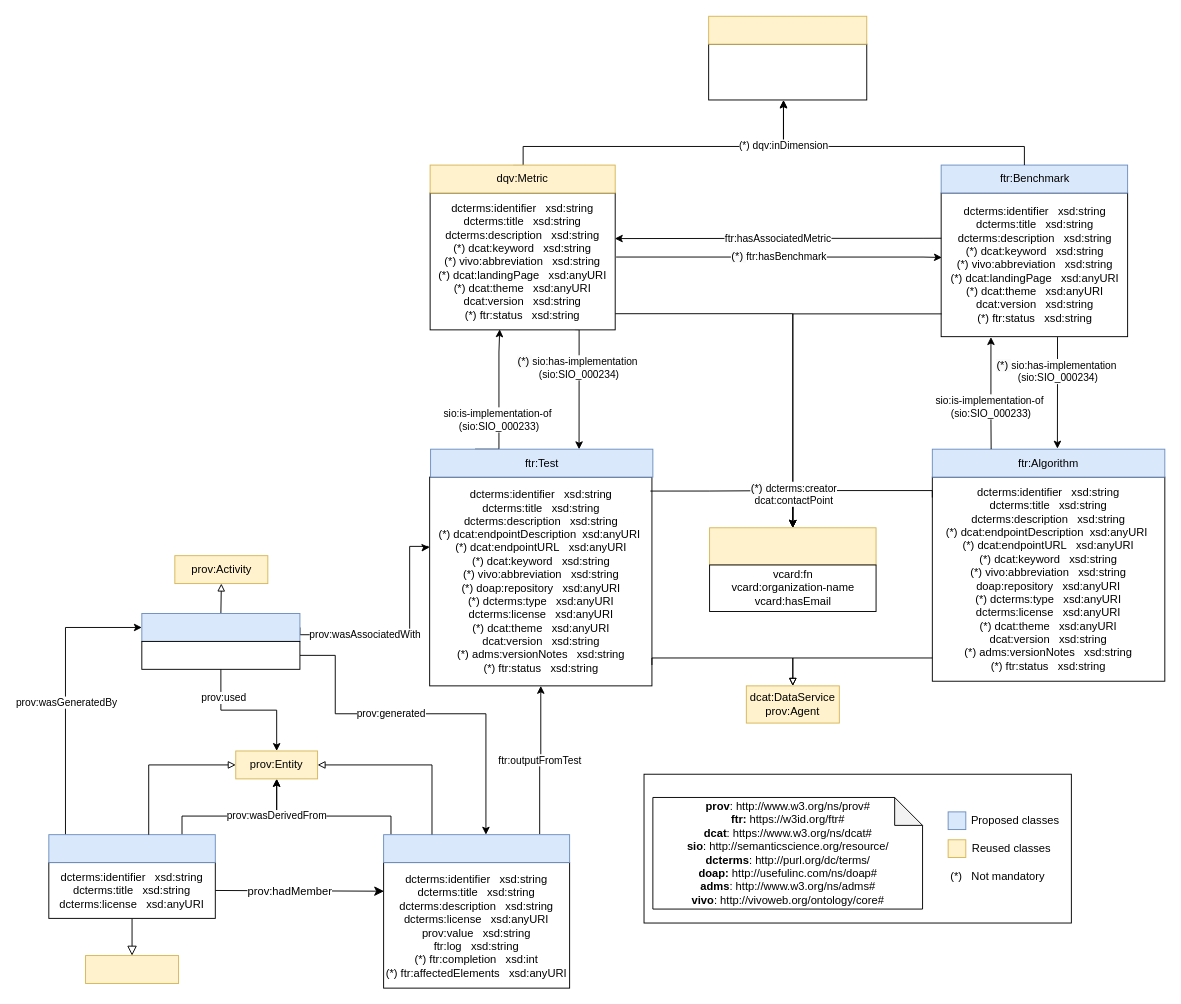
This 1181x1004 diagram has some shape labels left out. Here are the shapes that lost their labels. From the top down, the box of each, then its label:
(708, 15, 867, 44): dqv:Dimension
(708, 43, 867, 100): dcterms:identifier dcterms:title dcterms:description
(709, 527, 876, 565): vcard:Individual vcard.Organization
(141, 613, 300, 641): ftr:TestExecutionActivity
(48, 834, 215, 863): ftr:TestResultSet
(383, 834, 570, 863): ftr:TestResult
(85, 955, 179, 983): prov:Collection
